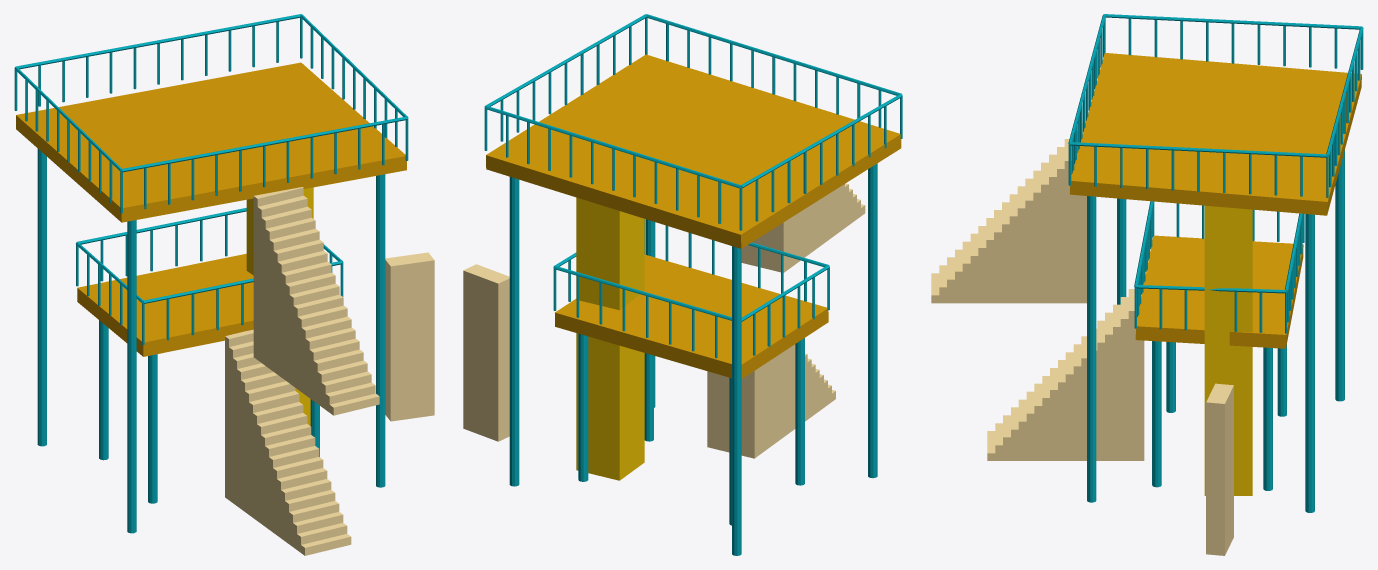
File: folie_tag_140.glb
3 views of the same model, side by side, from view 1: azimuth 30°, elevation 25°; view 2: azimuth 150°, elevation 25°; view 3: azimuth 270°, elevation 25° (orthographic). The views are drawn at different scales.
Visible parts, largest first — view 1: folie_tag_140_00_plate, folie_tag_140_stairs, folie_tag_140_line, folie_tag_140_01_plate, folie_tag_140_02_fin, folie_tag_140_core; view 2: folie_tag_140_00_plate, folie_tag_140_line, folie_tag_140_01_plate, folie_tag_140_core, folie_tag_140_stairs, folie_tag_140_02_fin; view 3: folie_tag_140_00_plate, folie_tag_140_stairs, folie_tag_140_line, folie_tag_140_core, folie_tag_140_01_plate, folie_tag_140_02_fin.
Part boxes in pixels (x1,y1,x2,y2): folie_tag_140_00_plate: [16, 62, 406, 222]; folie_tag_140_stairs: [225, 187, 379, 555]; folie_tag_140_line: [14, 14, 408, 533]; folie_tag_140_01_plate: [77, 253, 253, 356]; folie_tag_140_02_fin: [385, 252, 434, 421]; folie_tag_140_core: [246, 187, 313, 425]; folie_tag_140_00_plate: [486, 54, 901, 248]; folie_tag_140_line: [484, 14, 902, 555]; folie_tag_140_01_plate: [555, 254, 828, 378]; folie_tag_140_core: [576, 197, 644, 480]; folie_tag_140_stairs: [707, 183, 865, 458]; folie_tag_140_02_fin: [463, 264, 509, 441]; folie_tag_140_00_plate: [1069, 53, 1361, 215]; folie_tag_140_stairs: [931, 123, 1144, 460]; folie_tag_140_line: [1068, 14, 1363, 512]; folie_tag_140_core: [1204, 205, 1252, 495]; folie_tag_140_01_plate: [1135, 235, 1303, 348]; folie_tag_140_02_fin: [1206, 383, 1233, 555].
Bounding box in the file's own units: 9.61 × 9.26 × 9.92.
